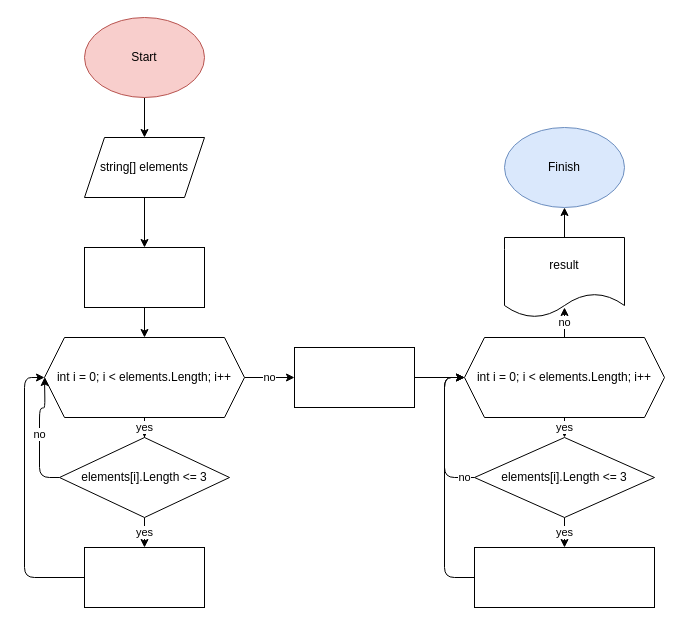
Image size: 682x625. Some labels were removed from this diagram. Each missing label, with the centre of its shape:
int size = 0;: point 144,277
result[index] = elements[i]; index++;: point 564,577
size++;: point 144,577
string[] result = new string[size]; int index = 0;: point 354,377
